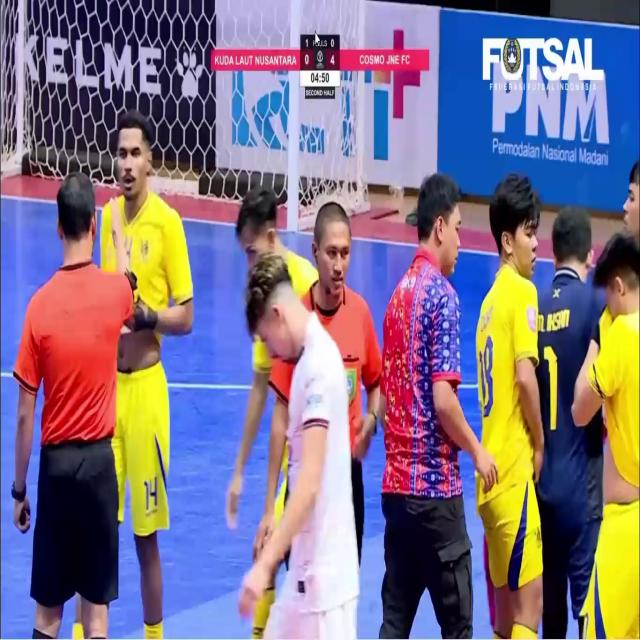keeper: (535, 208, 605, 639)
official: (379, 173, 497, 639)
players: (101, 111, 193, 638), (240, 255, 358, 639), (476, 175, 543, 638), (537, 208, 604, 638), (302, 203, 381, 560), (573, 234, 639, 638), (227, 337, 272, 527), (624, 161, 639, 242), (624, 161, 639, 241)
referee: (12, 174, 134, 638), (302, 204, 381, 562), (269, 361, 292, 417)
